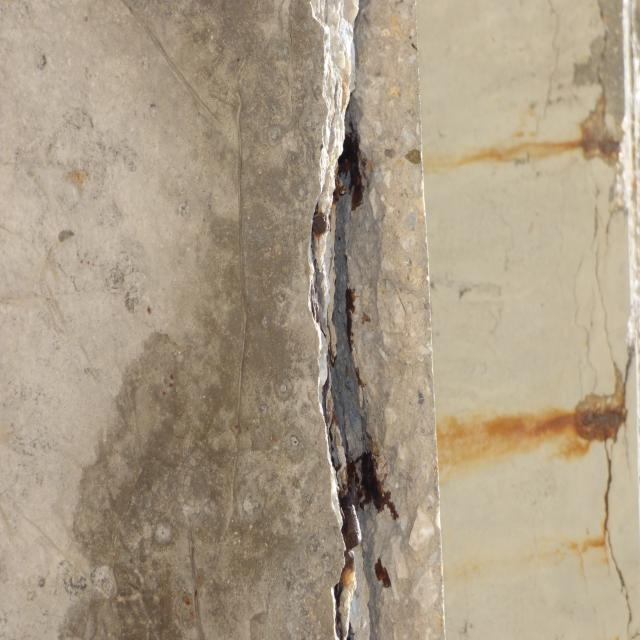corrosion: (306, 106, 412, 640), (428, 360, 640, 600), (407, 99, 640, 188)
